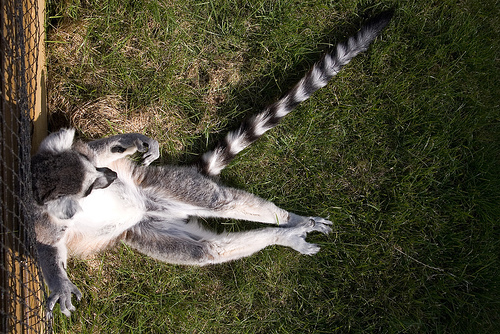cat: (32, 4, 398, 320)
